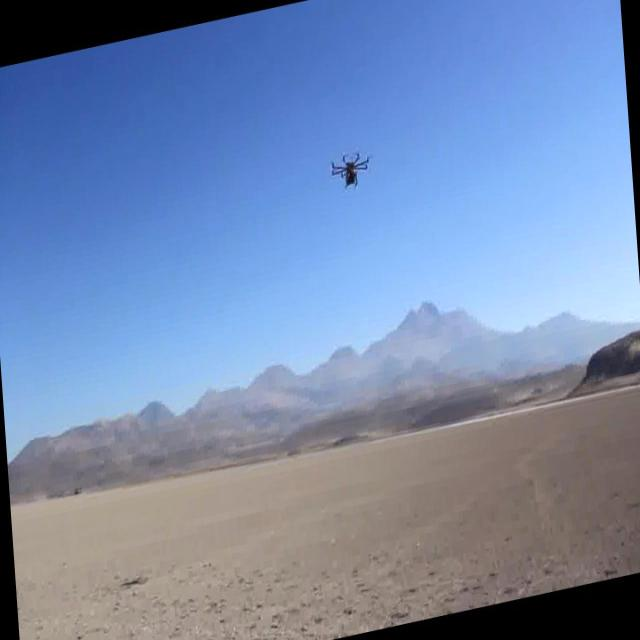drone: (326, 145, 373, 197)
